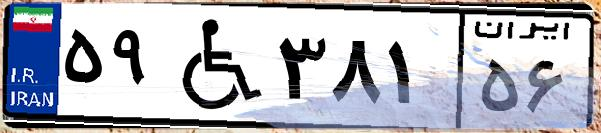1: (385, 28, 445, 110)
3: (270, 28, 330, 110)
5: (57, 26, 110, 100), (475, 38, 525, 113)
6: (525, 38, 570, 115)
8: (330, 28, 385, 110)
9: (110, 28, 158, 98)
ژ (معلولین و جانبازان): (158, 12, 270, 120)
